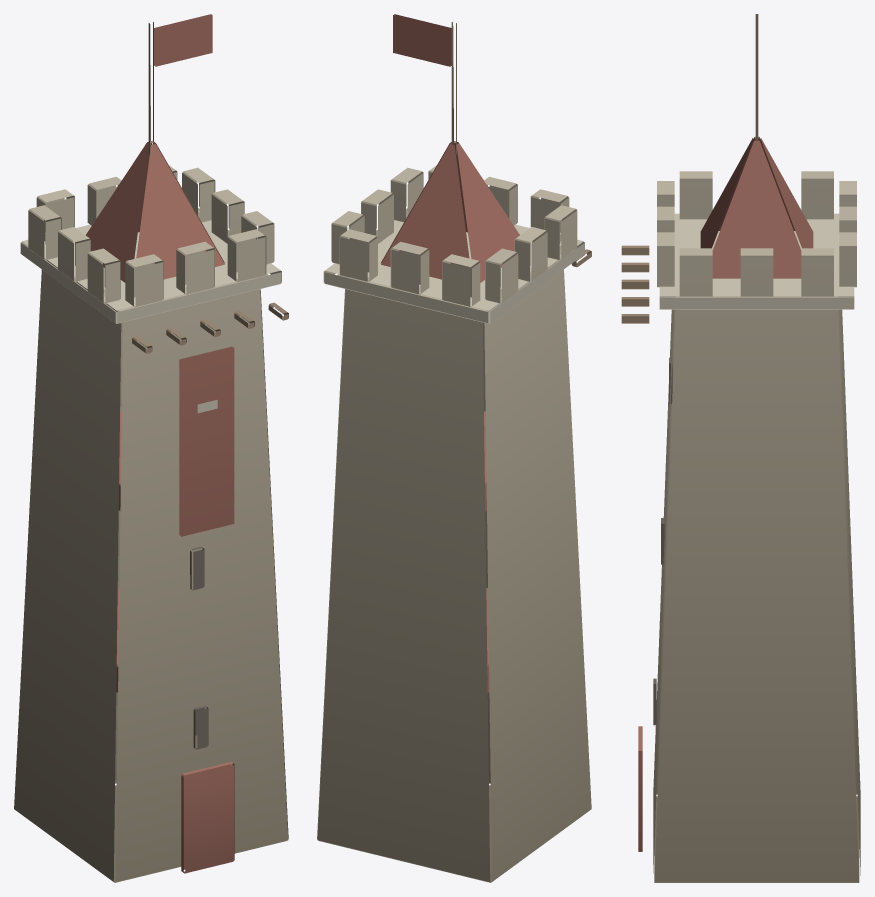
The model's file is iv_landmark.lod.glb.
3 views of the same model, side by side, from view 1: azimuth 30°, elevation 25°; view 2: azimuth 150°, elevation 25°; view 3: azimuth 270°, elevation 25° (orthographic). The views are drawn at different scales.
Parts seen in each view (by area): view 1: iv_landmark; view 2: iv_landmark; view 3: iv_landmark.
Boxes of the visible parts, bbox=[...] form: iv_landmark: bbox=[14, 14, 288, 882]; iv_landmark: bbox=[317, 14, 591, 882]; iv_landmark: bbox=[621, 14, 860, 882].
Bounding box in the file's own units: 4.1 × 17.98 × 4.75.
